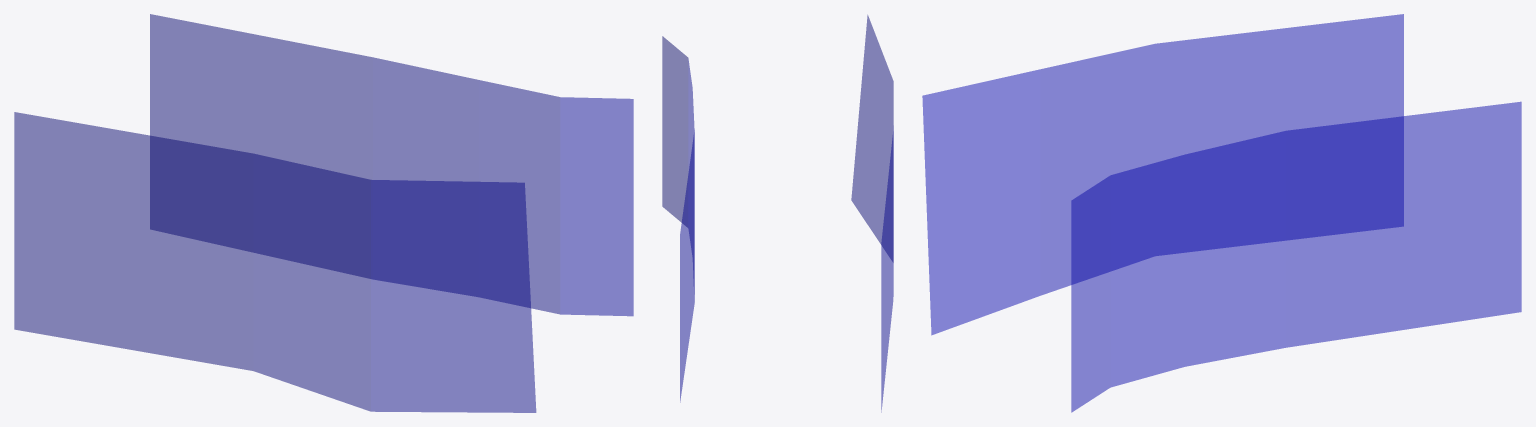
Rendered from track_military_coll_wall_34.fbx.
3 renders of one model, left to right at view 1: azimuth 30°, elevation 25°; view 2: azimuth 150°, elevation 25°; view 3: azimuth 270°, elevation 25°, orthographic. The views are drawn at different scales.
Parts seen in each view (by area): view 1: track_military_coll_wall_34; view 2: track_military_coll_wall_34; view 3: track_military_coll_wall_34.
Boxes of the visible parts, x1,y1,x2,y2 form: track_military_coll_wall_34: (14, 14, 633, 412); track_military_coll_wall_34: (662, 15, 893, 412); track_military_coll_wall_34: (922, 14, 1521, 412).
Bounding box in the file's own units: 73.26 × 40.97 × 86.65.
